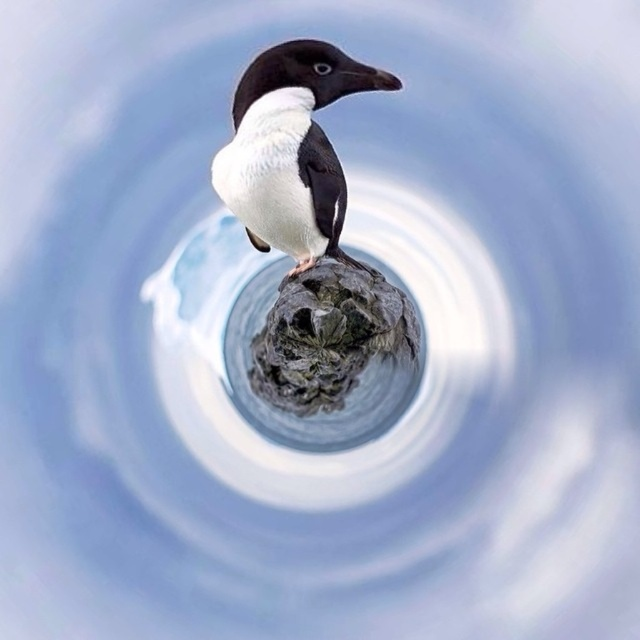Penguin: (210, 33, 406, 284)
